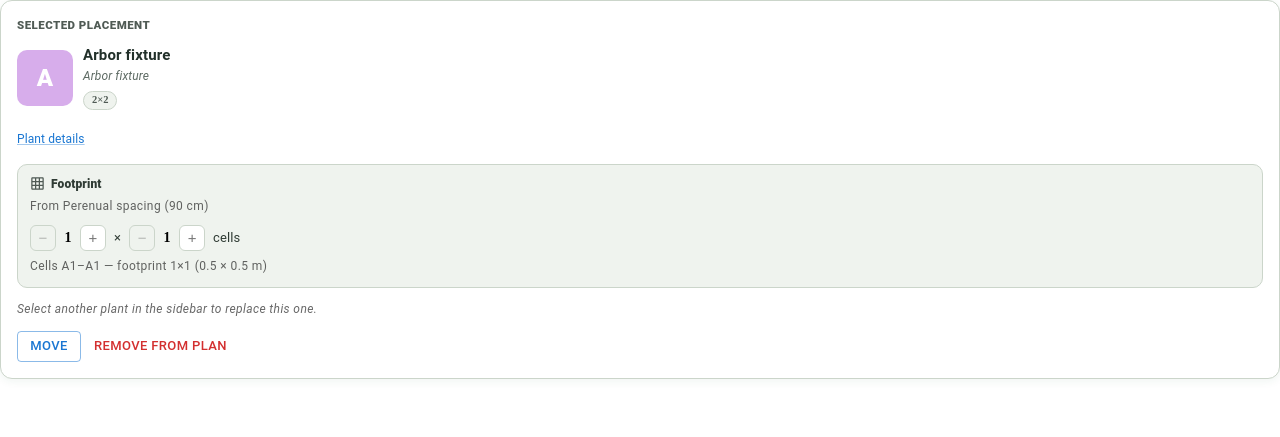
Test: PlacementDetailPanel footprint section (SMA-193 lot 3) › stepping back to a fitting value applies and clears the warn
This screenshot has width=1280, height=437.
Click the button named "Increase columns".
click(192, 238)  # box [179,225,205,251]
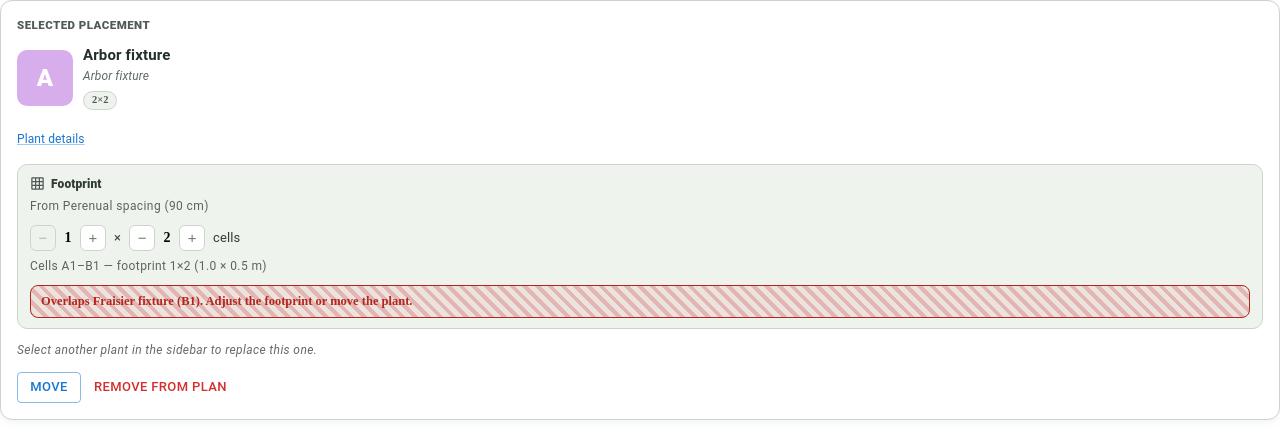
Check: the message "Overlaps Fraisier fixture (B1). Adjust the footprint or move the plant." is shown, box [30,284,1250,318]
Click the button named "Decrease columns".
click(142, 238)  # box [129,225,155,251]
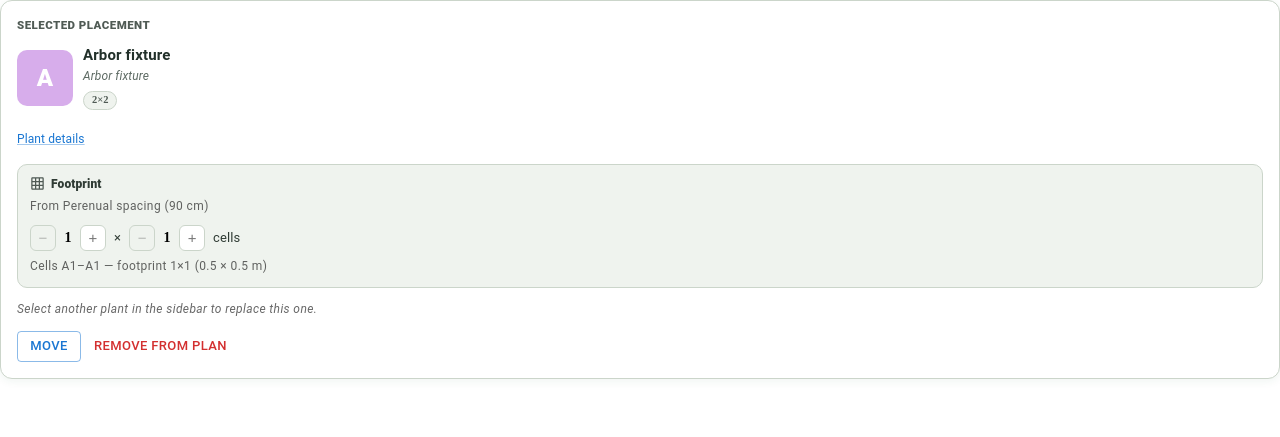
Check: the message "Overlaps Fraisier fixture (B1). Adjust the footprint or move the plant." is gone
